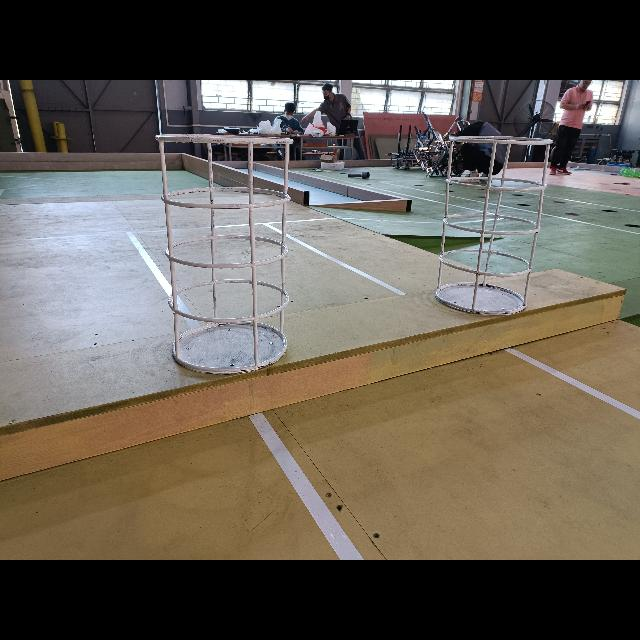S: (152, 132, 296, 377), (432, 133, 557, 318)
